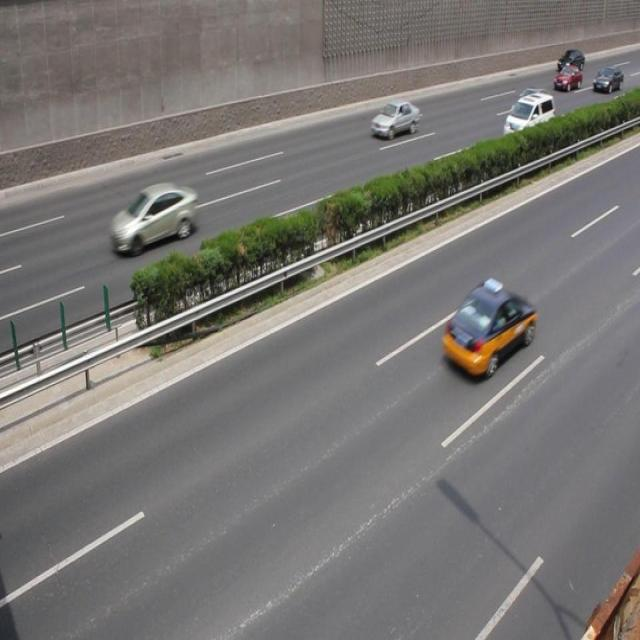car: (440, 280, 534, 379), (110, 183, 198, 257), (502, 91, 555, 151), (369, 99, 419, 138), (506, 87, 549, 118), (590, 66, 622, 94), (553, 63, 581, 92), (556, 48, 583, 74)
